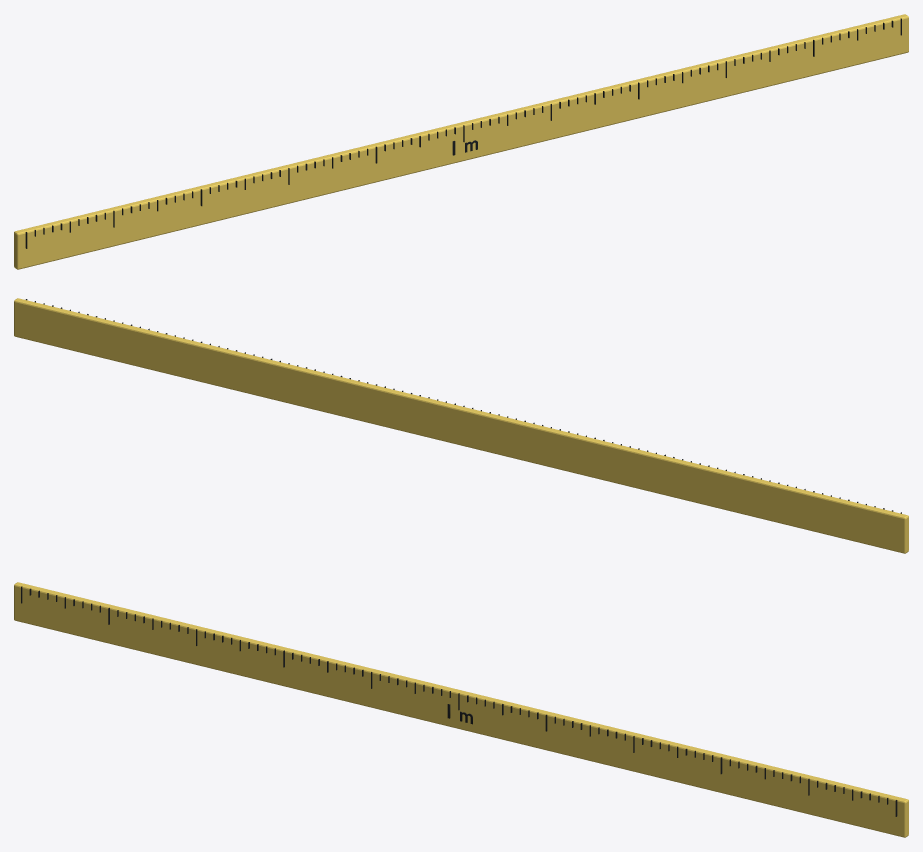
The model's file is Laboratory_Meter_Ruler.fbx.
The picture shows the model from 3 angles, top to bottom: view 1: azimuth 30°, elevation 25°; view 2: azimuth 150°, elevation 25°; view 3: azimuth 330°, elevation 25°; orthographic projection.
Visible parts, largest first — view 1: RulerBody, RulerTicks; view 2: RulerBody; view 3: RulerBody, RulerTicks.
Part boxes in pixels (x1,y1,x2,y2): RulerBody: (14, 14, 908, 269); RulerTicks: (25, 18, 901, 248); RulerBody: (14, 298, 908, 553); RulerBody: (14, 582, 908, 837); RulerTicks: (21, 586, 897, 816).
Size of the model in its own units: 1.02 by 0.04 by 0.00955.
